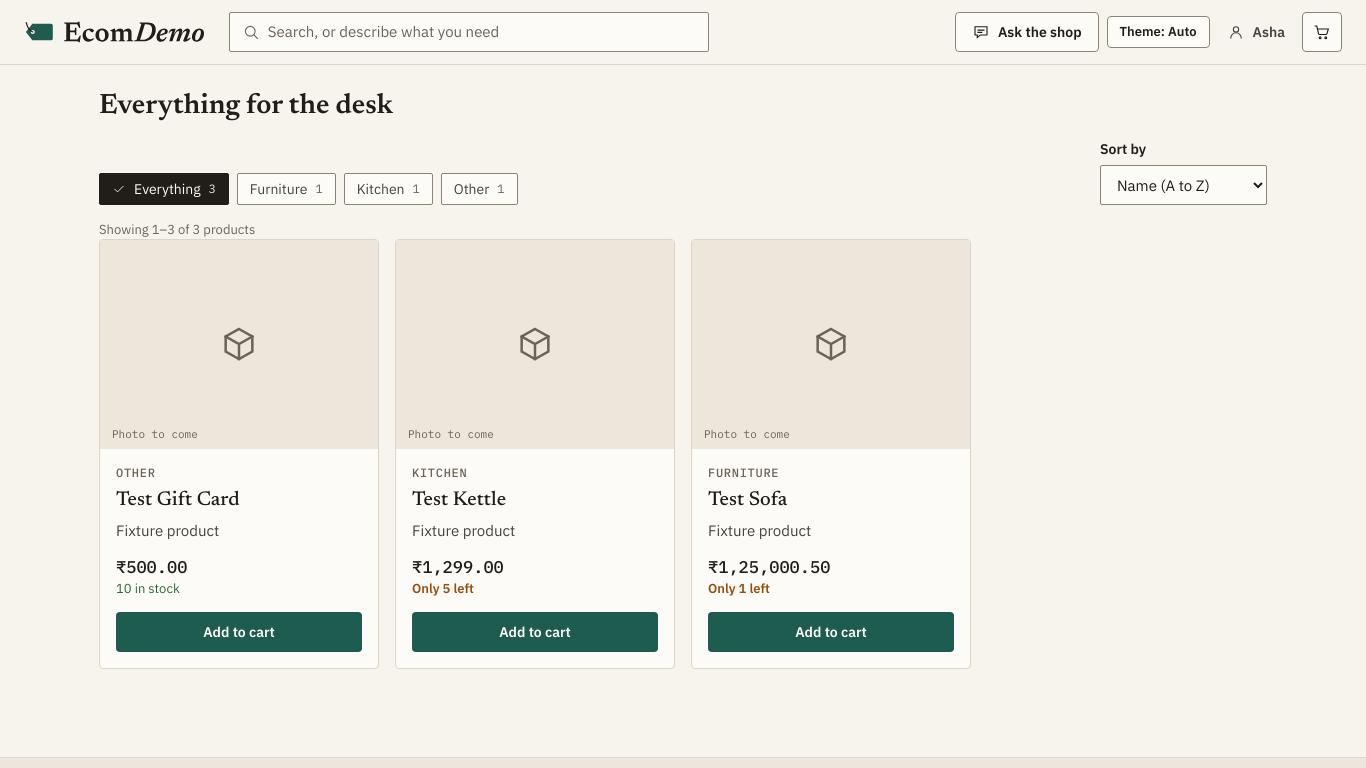
Test case: adding to the cart from the shelf › shows why an add was refused, and lets the message go
The width and height of the screenshot is (1366, 768).
Expected: the heading "Test Kettle" is shown, x1=412 y1=490 x2=506 y2=510
Step 1. Click the button "Add to cart" below "10 in stock" → (239, 632), box x1=116 y1=612 x2=362 y2=652
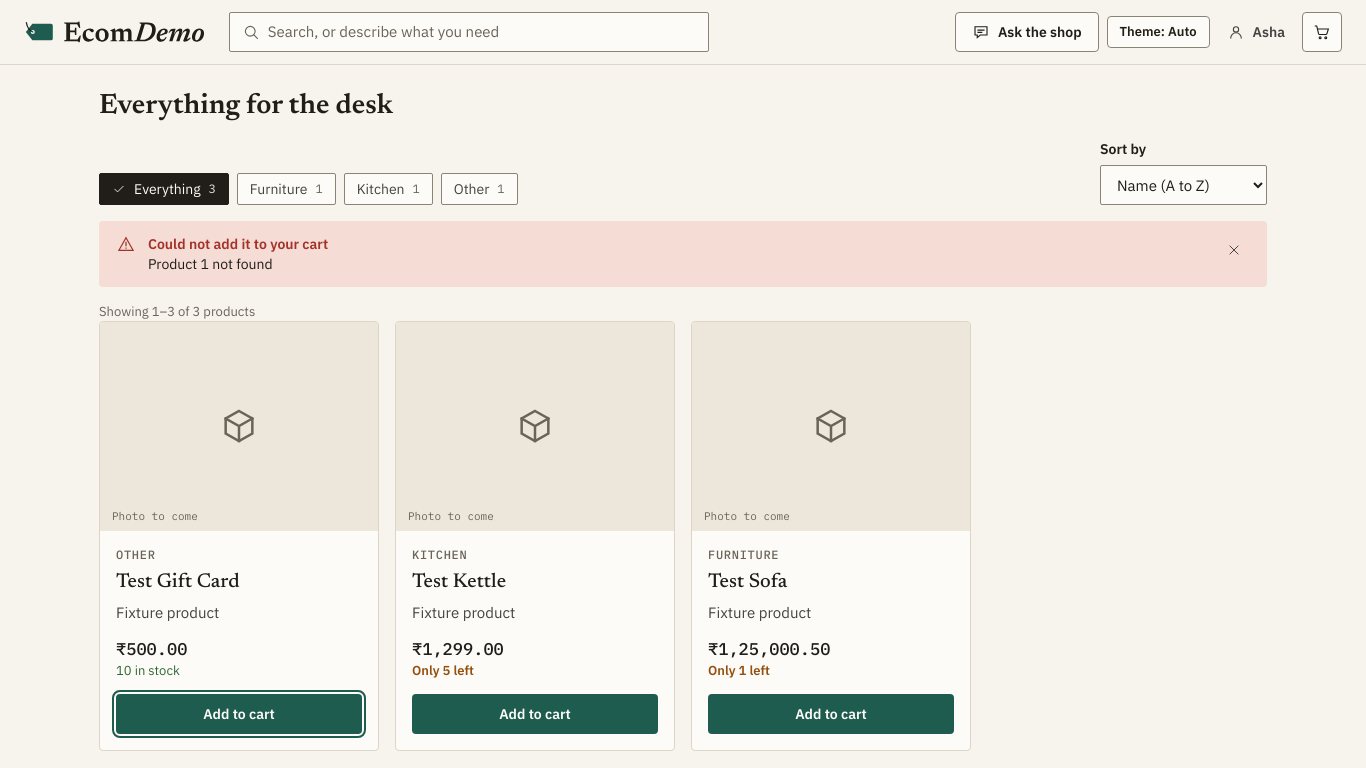
Now the message shows "Product 1 not found", box x1=148 y1=255 x2=273 y2=273
Step 2. Click the button named "Dismiss" → (1234, 250), box x1=1218 y1=234 x2=1250 y2=266
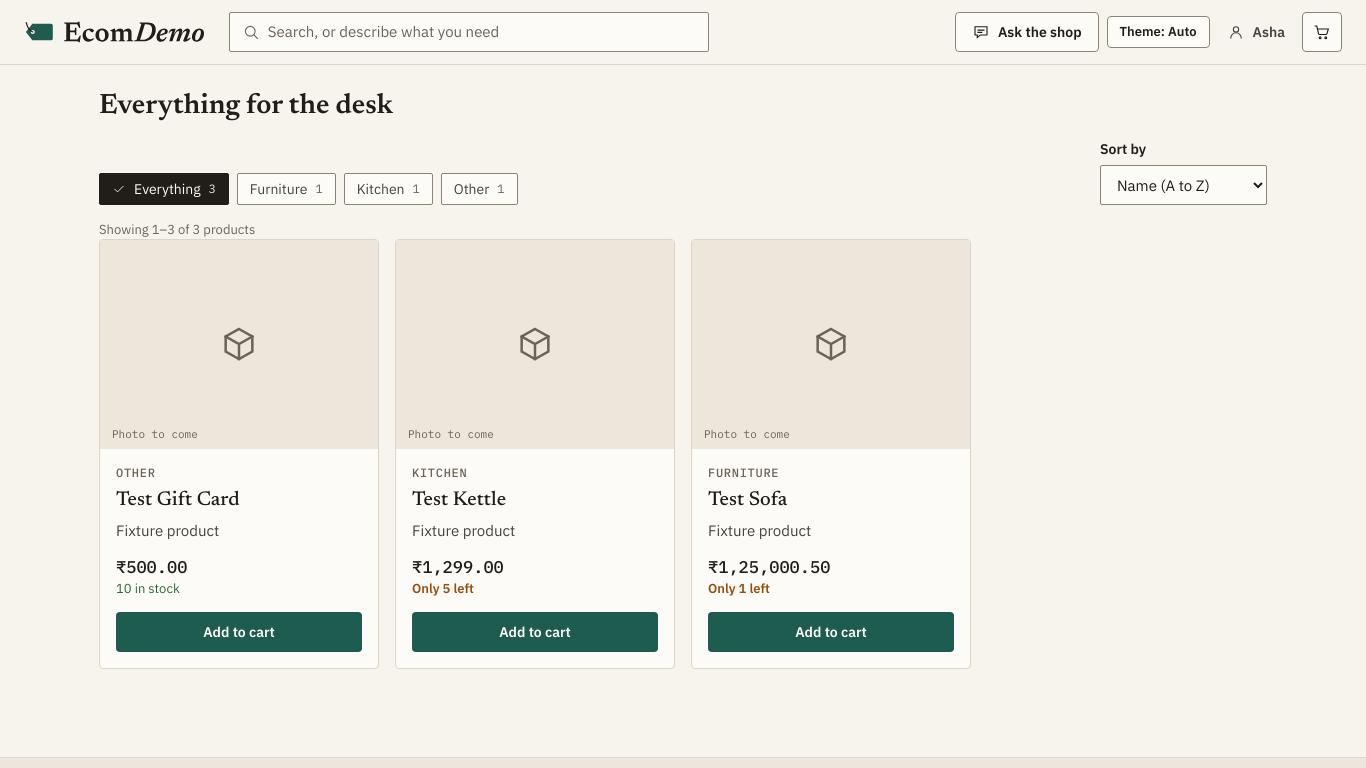
Now the message "Could not add it to your cart Product 1 not found" is gone
